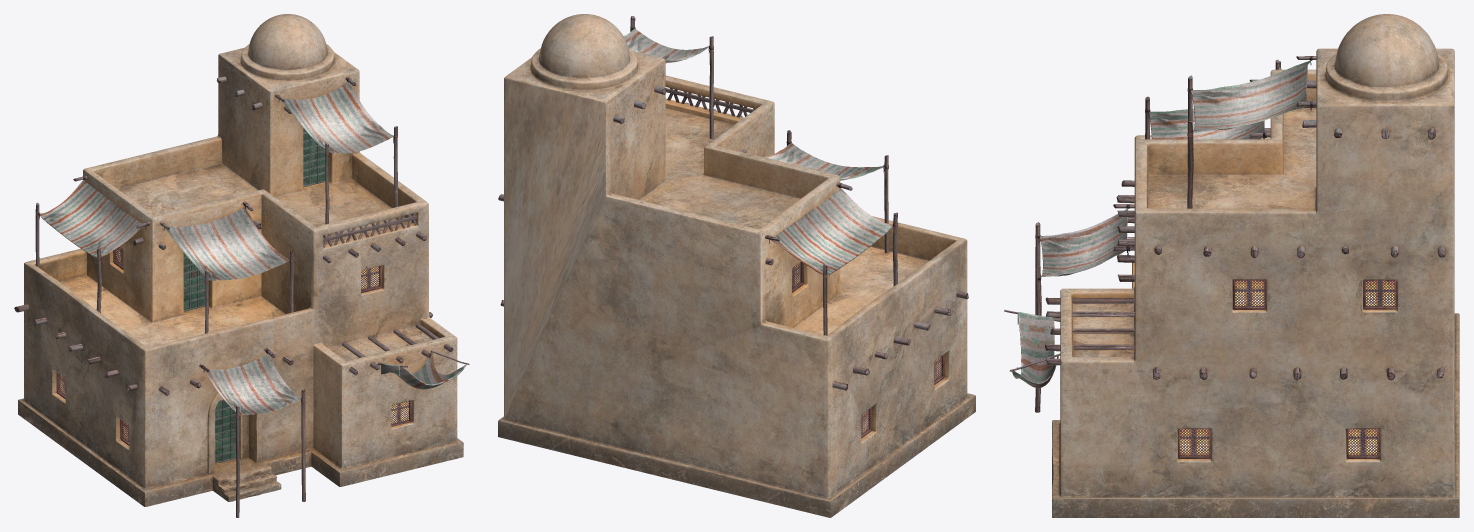
The model's file is xi_dep_house.gltf.
3 renders of one model, left to right at view 1: azimuth 30°, elevation 25°; view 2: azimuth 150°, elevation 25°; view 3: azimuth 270°, elevation 25°, orthographic. The views are drawn at different scales.
Parts seen in each view (by area): view 1: xi_dep_house; view 2: xi_dep_house; view 3: xi_dep_house.
Boxes of the visible parts, x1,y1,x2,y2 form: xi_dep_house: (14, 14, 469, 517); xi_dep_house: (498, 14, 975, 517); xi_dep_house: (1004, 14, 1459, 517).
Size of the model in its own units: 11.32 by 12.55 by 11.06.
Materials: 2 (2 with a texture image).
